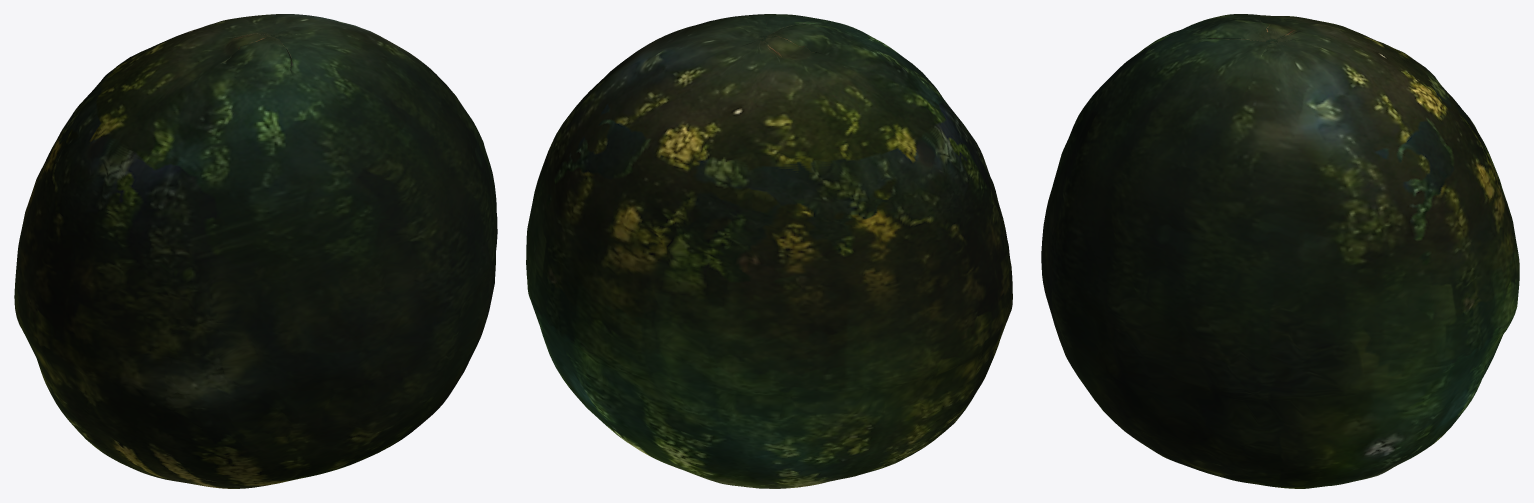
Rendered from GreenFruitWatermelon02.fbx.
3 views of the same model, side by side, from view 1: azimuth 30°, elevation 25°; view 2: azimuth 150°, elevation 25°; view 3: azimuth 270°, elevation 25° (orthographic). The views are drawn at different scales.
Visible parts, largest first — view 1: Watermelon02; view 2: Watermelon02; view 3: Watermelon02.
Boxes of the visible parts, x1,y1,x2,y2 form: Watermelon02: (14, 14, 497, 488); Watermelon02: (526, 14, 1012, 488); Watermelon02: (1041, 14, 1519, 488).
Size of the model in its own units: 0.3237 by 0.3067 by 0.3047.
Materials: 1 (1 with a texture image).
